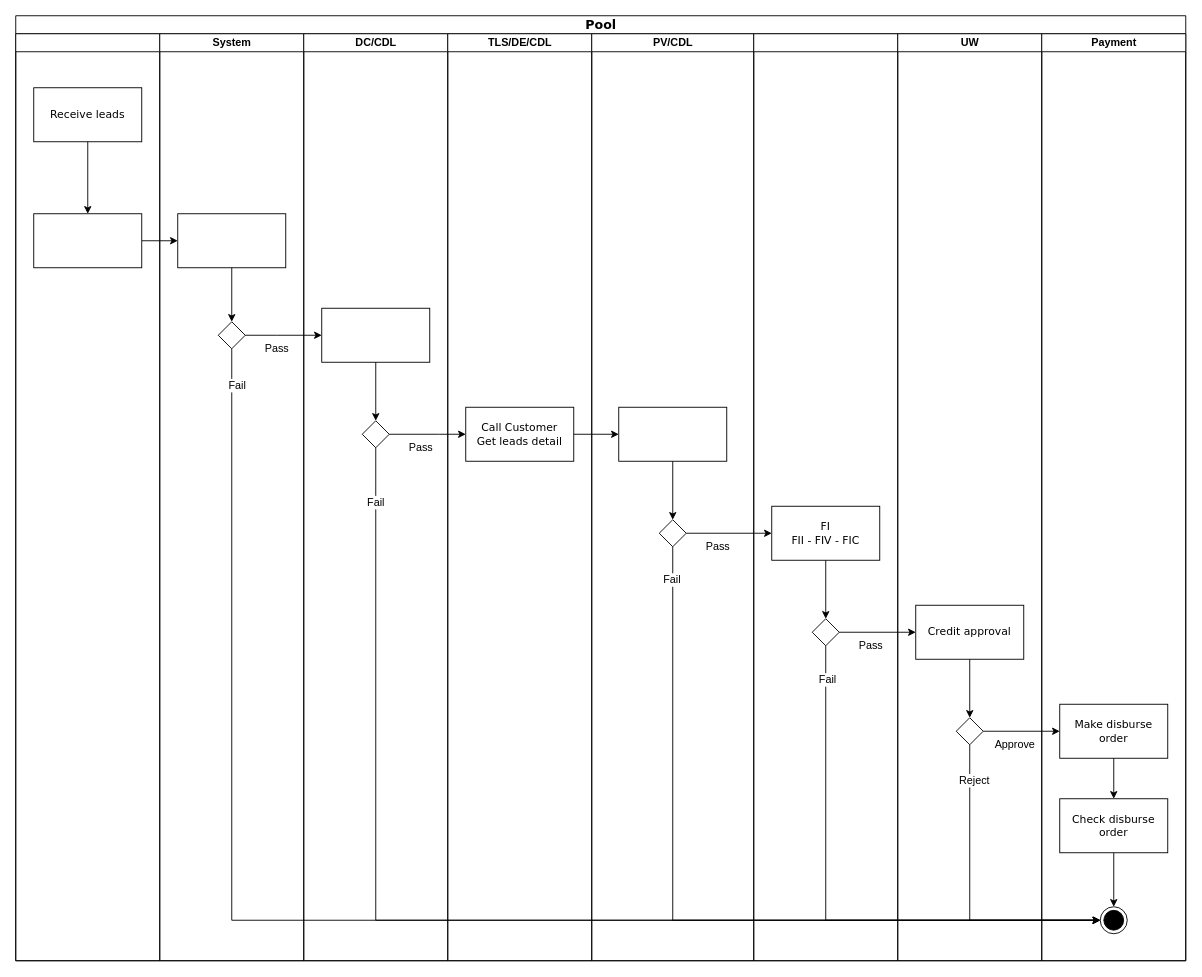
This 1202x977 diagram has some shape labels left out. The box of each missing label's shape, as (x1, y1, x2, y2) in pixels:
Check CIC/PCB: (321, 307, 430, 362)
Check dedupe leads: (33, 213, 142, 268)
FV: (753, 33, 898, 961)
IT: (15, 33, 160, 961)
Phone KYC: (618, 406, 727, 461)
Policy execution: (177, 213, 286, 268)
